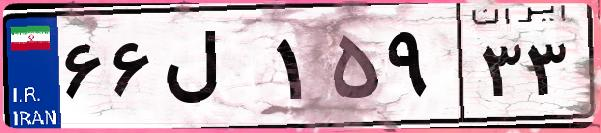1: (270, 28, 330, 110)
3: (475, 38, 525, 113), (525, 38, 570, 115)
5: (330, 28, 385, 110)
6: (57, 26, 110, 100), (110, 28, 158, 98)
9: (385, 28, 445, 110)
ل: (158, 20, 270, 120)
